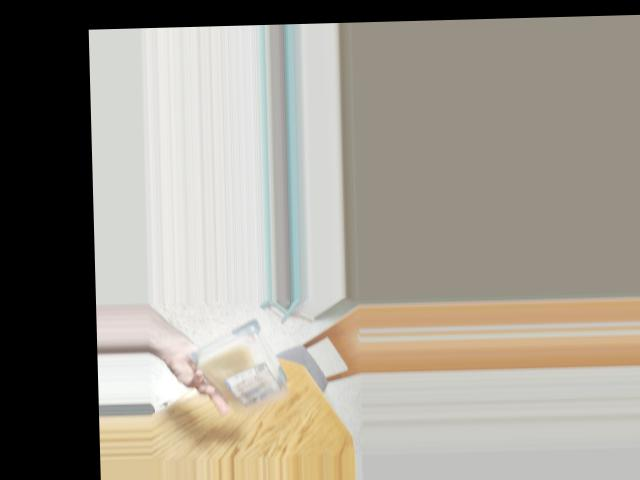cheese: (197, 335, 285, 408)
